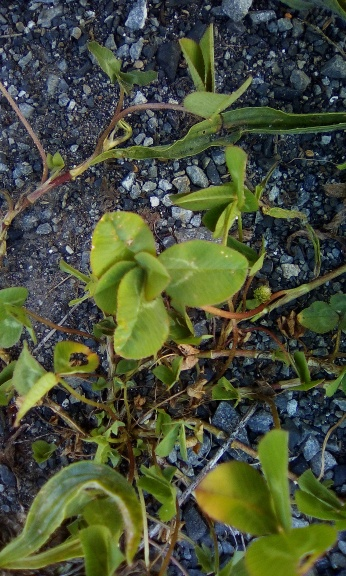4leaf: (89, 209, 248, 361)
